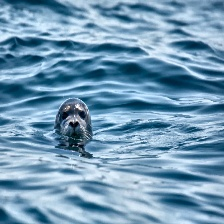seal: (53, 98, 93, 158)
